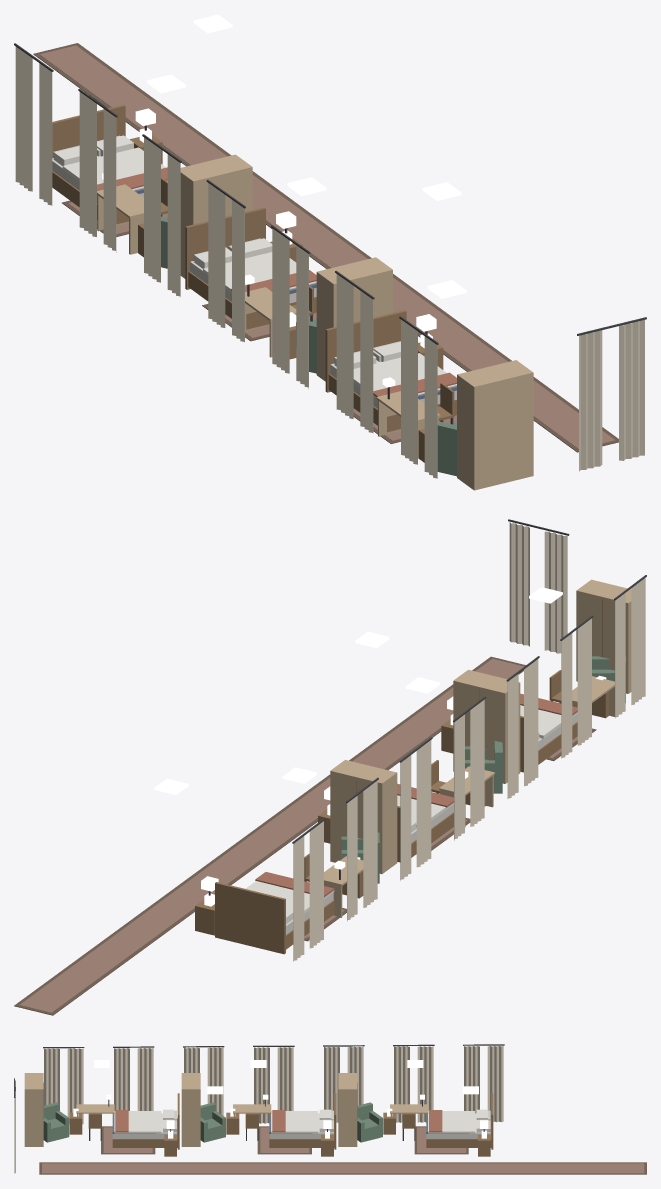
The model's file is fine-s1.glb.
The picture shows the model from 3 angles, top to bottom: view 1: azimuth 30°, elevation 25°; view 2: azimuth 150°, elevation 25°; view 3: azimuth 270°, elevation 25°; orthographic projection. The views are drawn at different scales.
Visible parts, largest first — view 1: soft-s1, dresser.002, dresser.001, dresser.000, bed-frame.001, bed-frame.002, bed-frame.000, writing-desk.000, writing-desk.001, writing-desk.002, lounge-chair.002; view 2: soft-s1, dresser.000, bed-frame.000, dresser.001, dresser.002, writing-desk.000, bed-frame.002, bed-frame.001, lounge-chair.001, nightstand.000, writing-desk.001; view 3: soft-s1, dresser.000, dresser.001, dresser.002, bed-frame.002, bed-frame.000, bed-frame.001, lounge-chair.002, lounge-chair.001, lounge-chair.000, writing-desk.002, writing-desk.001 (+10 smaller).
Part boxes in pixels (x1,y1,x2,y2): soft-s1: [14, 43, 646, 478]; dresser.002: [457, 360, 533, 490]; dresser.001: [316, 257, 392, 381]; dresser.000: [180, 154, 252, 278]; bed-frame.001: [185, 207, 316, 329]; bed-frame.002: [325, 310, 456, 432]; bed-frame.000: [52, 104, 143, 224]; writing-desk.000: [97, 173, 143, 254]; writing-desk.001: [245, 274, 296, 357]; writing-desk.002: [376, 377, 440, 458]; lounge-chair.002: [437, 421, 456, 476]; soft-s1: [14, 519, 646, 1015]; dresser.000: [330, 760, 397, 873]; bed-frame.000: [215, 882, 334, 954]; dresser.001: [453, 669, 520, 783]; dresser.002: [576, 579, 631, 693]; writing-desk.000: [324, 856, 363, 917]; bed-frame.002: [520, 714, 577, 772]; bed-frame.001: [397, 804, 453, 862]; lounge-chair.001: [465, 740, 502, 793]; nightstand.000: [195, 893, 214, 935]; writing-desk.001: [439, 766, 494, 827]; soft-s1: [14, 1044, 646, 1174]; dresser.000: [338, 1073, 357, 1146]; dresser.001: [181, 1073, 200, 1146]; dresser.002: [24, 1073, 43, 1146]; bed-frame.002: [112, 1093, 179, 1149]; bed-frame.000: [426, 1093, 493, 1149]; bed-frame.001: [269, 1093, 336, 1149]; lounge-chair.002: [43, 1102, 69, 1142]; lounge-chair.001: [200, 1102, 225, 1142]; lounge-chair.000: [357, 1102, 382, 1142]; writing-desk.002: [76, 1094, 114, 1118]; writing-desk.001: [233, 1094, 271, 1118].
Bounding box in the file's own units: 3.92 × 2.74 × 19.84.
